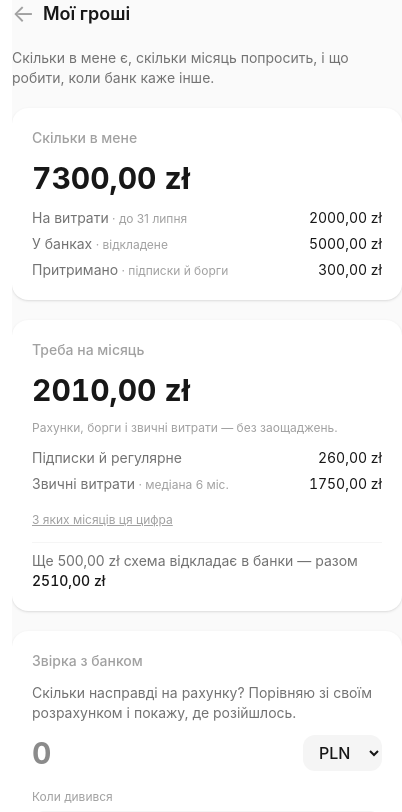
Test case: Мої гроші › звірка з банком › says so when nothing has drifted
Type "7300" into the field named "Скільки насправді на рахунку" at (164, 753), box x1=32 y1=735 x2=295 y2=771
(page scrolled)
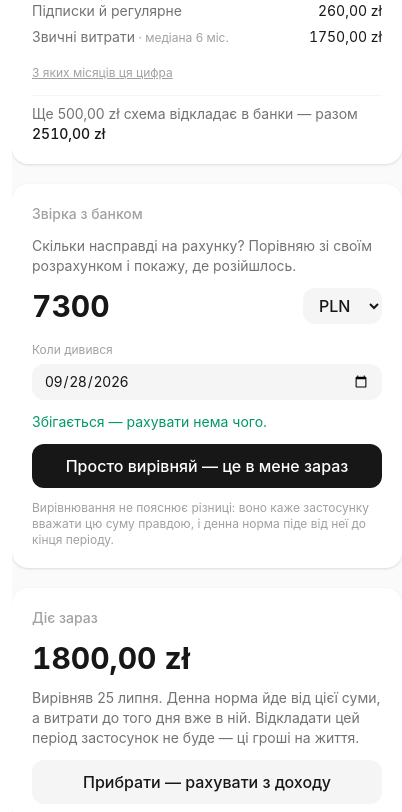
Expected: the text "Збігається — рахувати нема чого." is shown, x1=32 y1=413 x2=267 y2=430
